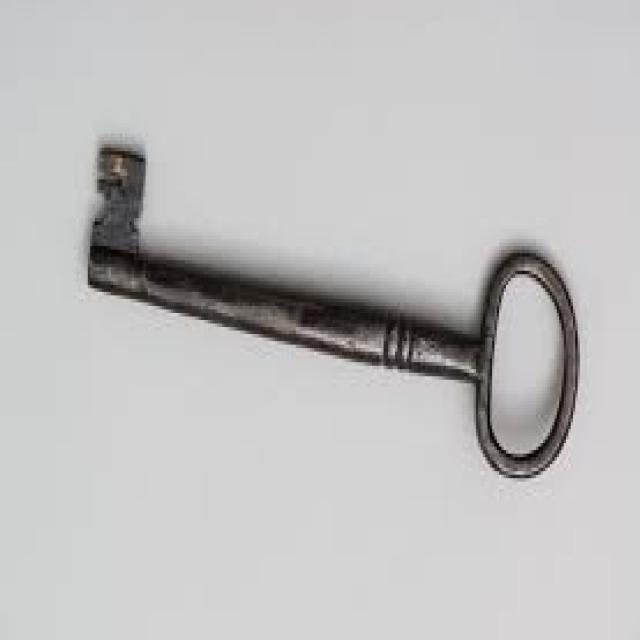key: (52, 22, 621, 528)
